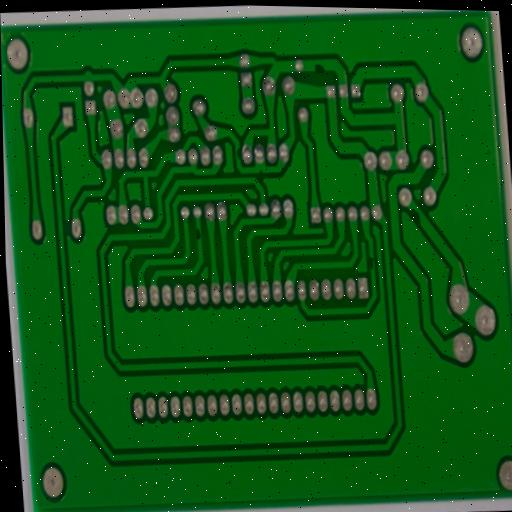mouse_bite: (408, 203, 424, 230), (313, 56, 330, 77), (192, 223, 205, 243), (366, 255, 378, 273), (236, 146, 243, 164)
